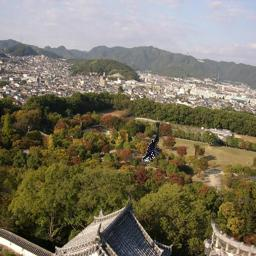Woodpecker: (142, 134, 162, 163)
